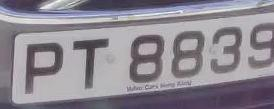3: (206, 22, 248, 76)
8: (124, 29, 171, 89), (165, 25, 209, 82)
9: (244, 19, 274, 73)
P: (15, 34, 70, 100)
T: (67, 34, 115, 96)
